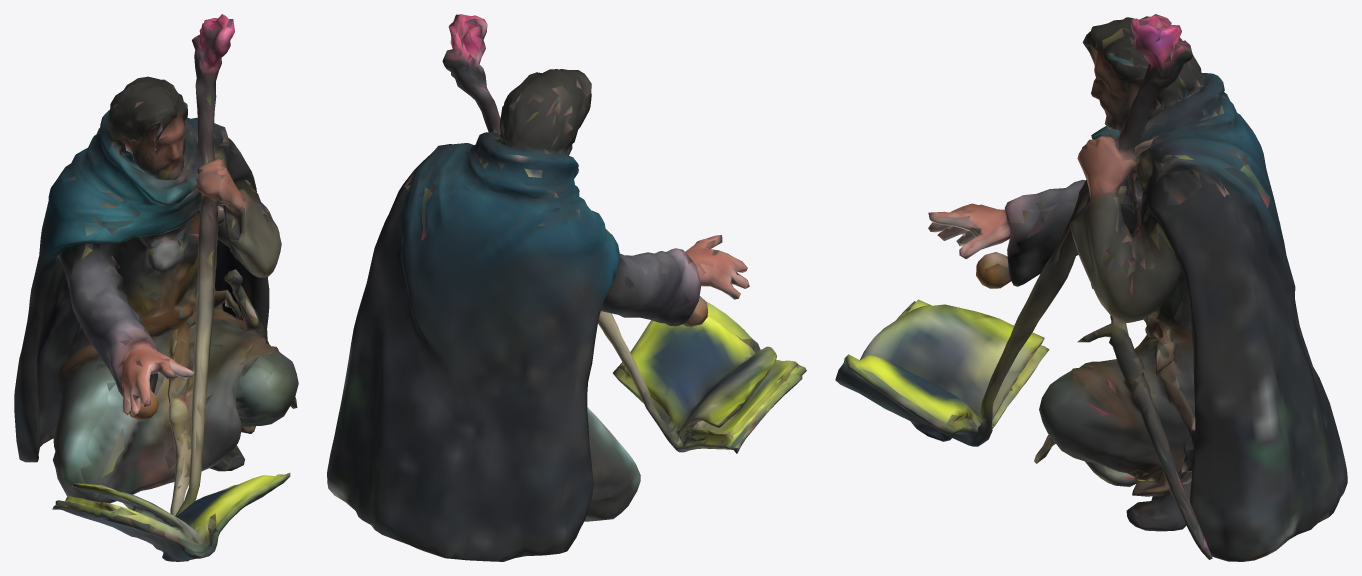
File: Kayser_final.glb
3 renders of one model, left to right at view 1: azimuth 30°, elevation 25°; view 2: azimuth 150°, elevation 25°; view 3: azimuth 270°, elevation 25°, orthographic. The views are drawn at different scales.
Visible parts, largest first — view 1: Mesh1.0; view 2: Mesh1.0; view 3: Mesh1.0.
Part boxes in pixels (<box>): Mesh1.0: <box>14,14,298,561</box>; Mesh1.0: <box>327,14,806,561</box>; Mesh1.0: <box>835,14,1347,561</box>.
Size of the model in its own units: 1.37 by 1.8 by 1.65.
1 material, 1 textured.
